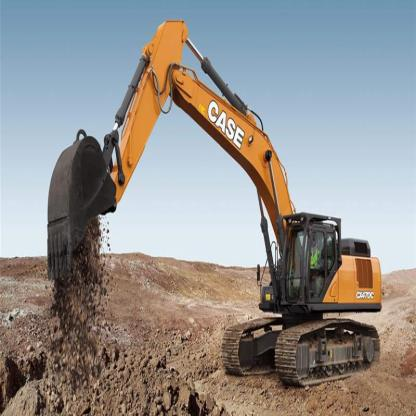excavator: (28, 5, 384, 384)
